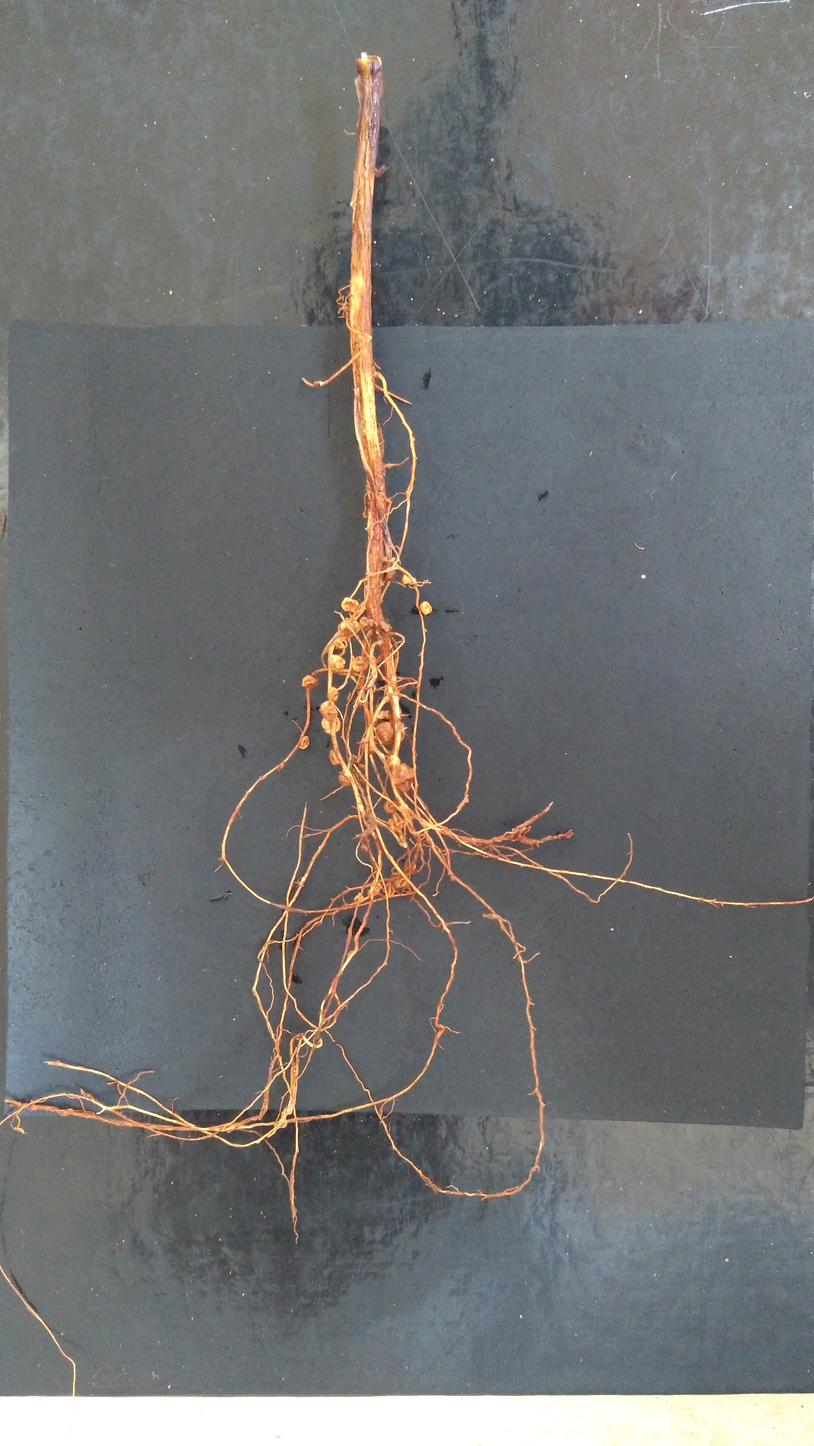nodule: (390, 763, 415, 792), (335, 617, 360, 638), (375, 721, 396, 746), (318, 699, 339, 722), (319, 716, 342, 735), (339, 595, 361, 614), (327, 653, 346, 674), (357, 614, 375, 633), (352, 655, 370, 673), (386, 816, 404, 834), (301, 673, 319, 690), (337, 770, 351, 789), (419, 600, 434, 617), (328, 748, 341, 767), (382, 799, 398, 814), (399, 720, 409, 742), (400, 572, 414, 587), (387, 753, 401, 768), (297, 735, 311, 750), (327, 686, 340, 702), (383, 569, 397, 583), (393, 877, 408, 889), (332, 638, 346, 650), (353, 892, 365, 902)
